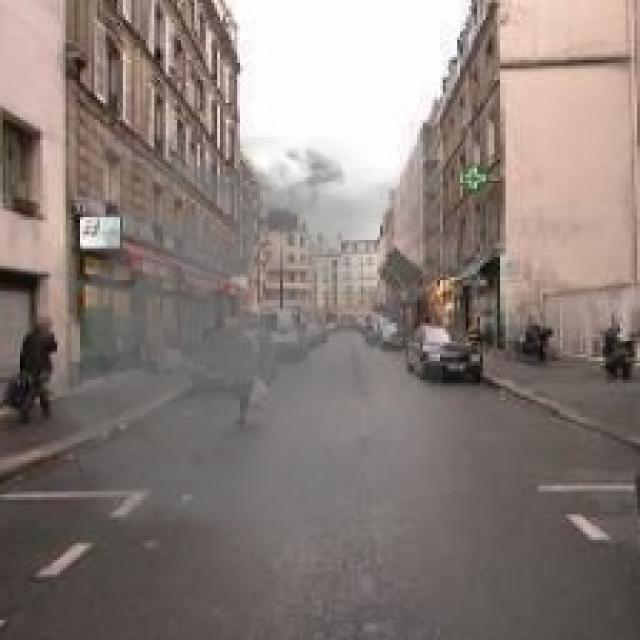Smoke: (23, 134, 443, 552)
